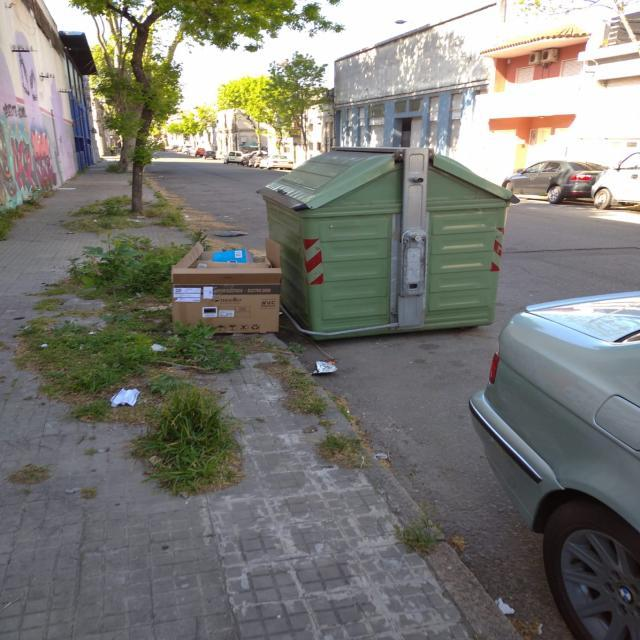garbage: (165, 218, 288, 357), (296, 348, 398, 412), (94, 368, 154, 457)
